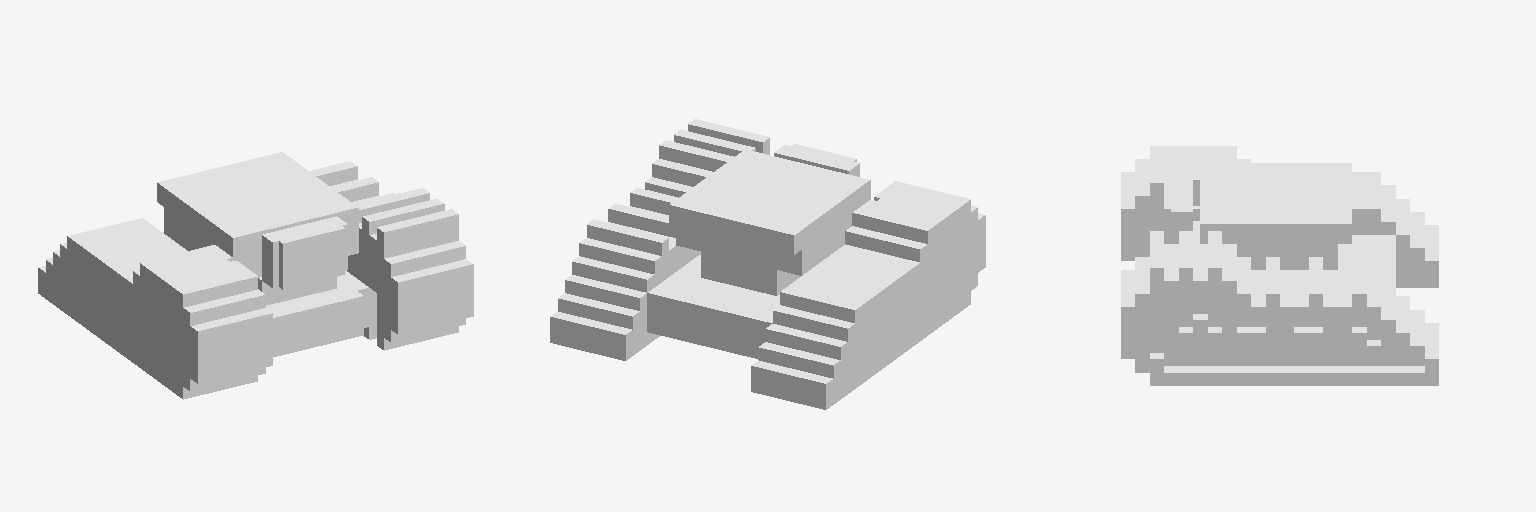
Rendered from roboto-bot-1.obj.
The picture shows the model from 3 angles: view 1: azimuth 30°, elevation 25°; view 2: azimuth 150°, elevation 25°; view 3: azimuth 270°, elevation 25°; orthographic projection.
Parts seen in each view (by area): view 1: object 1; view 2: object 1; view 3: object 1.
Boxes of the visible parts, x1,y1,x2,y2 form: object 1: [38, 152, 473, 399]; object 1: [550, 119, 985, 409]; object 1: [1121, 146, 1438, 385].
Size of the model in its own units: 4.4 by 1.9 by 4.4.